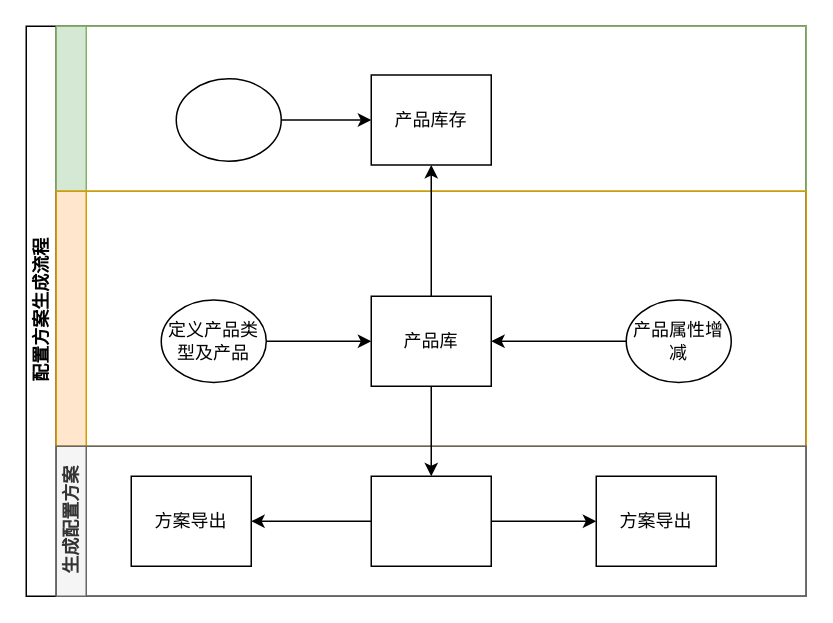
The diagram is 833 pixels wide and 623 high, and some of its shapes have lost their labels. Here are the shapes that lost their labels. From the top down, the box of each, then its label:
(175, 77, 281, 161): 具体产品维护
(55, 25, 806, 191): 产品仓储维护
(55, 190, 806, 446): 产品库配置
(370, 475, 491, 566): 选择有库存的产品生成配置方案
